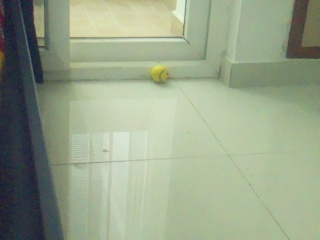ball: (151, 65, 168, 82)
